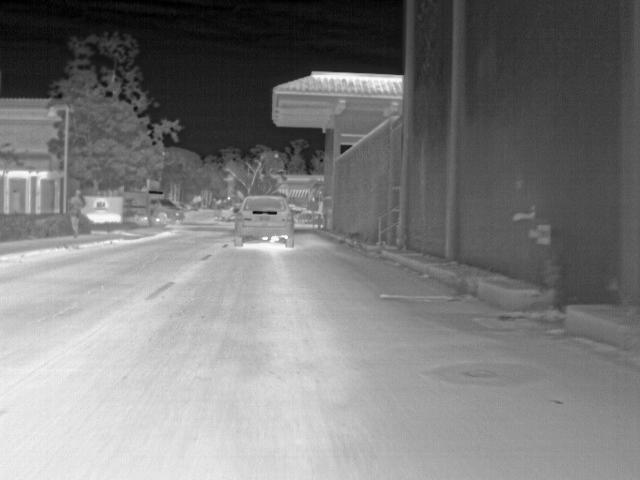car: (232, 194, 295, 248), (291, 210, 313, 225), (219, 204, 235, 223)
person: (67, 190, 83, 238)
